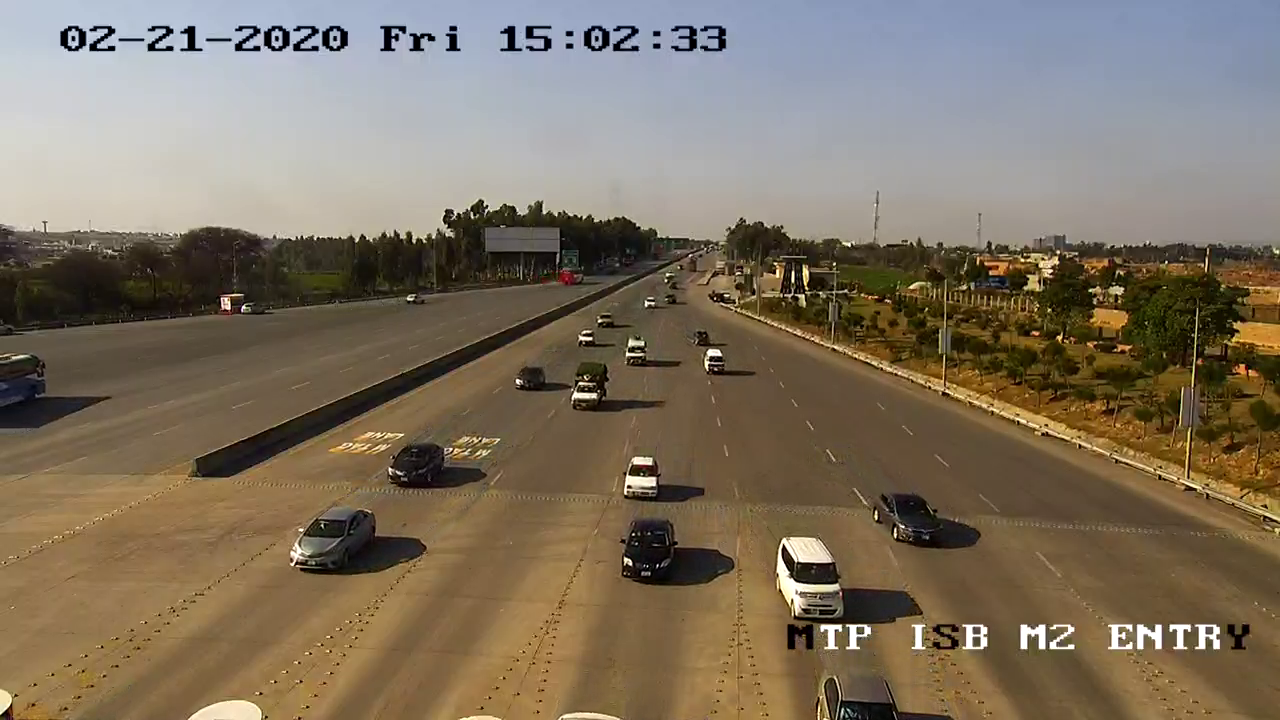f1: (761, 529, 858, 630), (274, 499, 380, 580), (609, 503, 685, 589), (866, 483, 946, 554), (374, 432, 457, 498), (557, 351, 617, 417), (611, 448, 669, 506)
